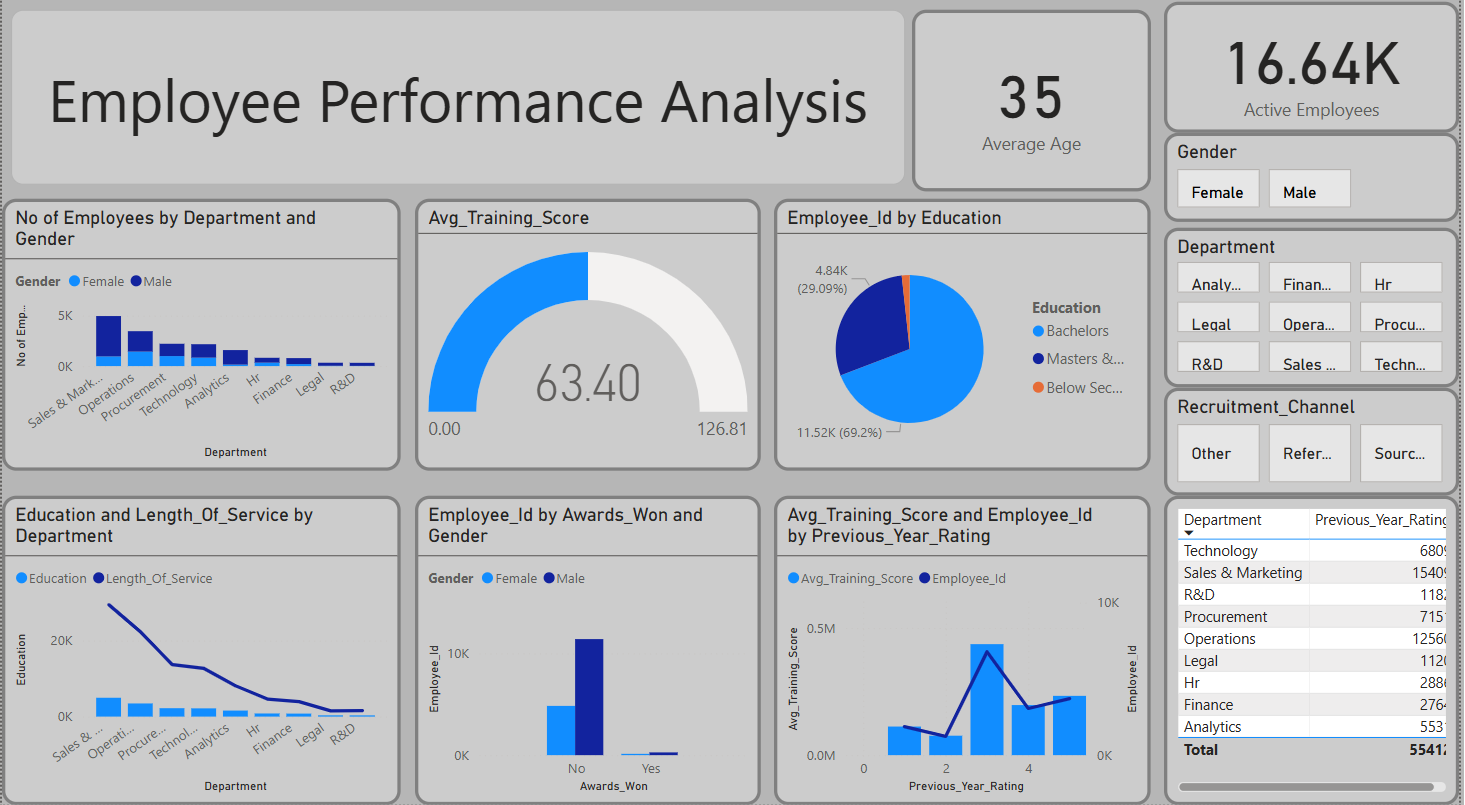

Layout of this report page (visuals, bound fields, positions):
{"tool":"powerbi","page":{"name":"Page 1","canvas":[1323,779],"ordinal":0},"visuals":[{"type":"textbox","box":[8.2,57.2,811.8,158.9],"z":0},{"type":"columnChart","fields":{"Series":["cleaned_employees Dataset.Gender"],"Category":["cleaned_employees Dataset.Department"],"Y":["CountNonNull(cleaned_employees Dataset.Employee_Id)"]},"box":[0,228.8,362.3,247],"z":1000},{"type":"lineStackedColumnComboChart","fields":{"Y2":["Sum(cleaned_employees Dataset.Length_Of_Service)"],"Category":["cleaned_employees Dataset.Department"],"Y":["CountNonNull(cleaned_employees Dataset.Education)"]},"box":[0,498.5,362.3,280.6],"z":2000},{"type":"gauge","fields":{"Y":["Avg(cleaned_employees Dataset.Avg_Training_Score)"]},"box":[375,228.8,314.2,247],"z":3000},{"type":"clusteredColumnChart","fields":{"Category":["cleaned_employees Dataset.Awards_Won"],"Series":["cleaned_employees Dataset.Gender"],"Y":["CountNonNull(cleaned_employees Dataset.Employee_Id)"]},"box":[375,498.5,314.2,280.6],"z":4000},{"type":"pieChart","fields":{"Category":["cleaned_employees Dataset.Education"],"Y":["CountNonNull(cleaned_employees Dataset.Employee_Id)"]},"box":[701,228.8,342.3,247],"z":5000},{"type":"advancedSlicerVisual","fields":{"Values":["cleaned_employees Dataset.Gender"]},"box":[1055.1,168.9,267.9,80.8],"z":6000},{"type":"lineClusteredColumnComboChart","fields":{"Category":["cleaned_employees Dataset.Previous_Year_Rating"],"Y":["Sum(cleaned_employees Dataset.Avg_Training_Score)"],"Y2":["CountNonNull(cleaned_employees Dataset.Employee_Id)"]},"box":[701,498.5,342.3,280.6],"z":7000},{"type":"advancedSlicerVisual","fields":{"Values":["cleaned_employees Dataset.Recruitment_Channel"]},"box":[1055.1,400.4,267.9,98.1],"z":8000},{"type":"advancedSlicerVisual","fields":{"Values":["cleaned_employees Dataset.Department"]},"box":[1055.1,255.2,267.9,145.3],"z":9000},{"type":"card","fields":{"Values":["cleaned_employees Dataset.Average Age"]},"box":[1055.1,49.9,267.9,119],"z":10000},{"type":"card","fields":{"Values":["cleaned_employees Dataset.Average Age"]},"box":[826.3,57.2,217,165.3],"z":11000},{"type":"tableEx","fields":{"Values":["cleaned_employees Dataset.Department","Sum(cleaned_employees Dataset.Previous_Year_Rating)"]},"box":[1055.1,498.5,267.9,280.6],"z":12000}]}

Visuals, with their boxes in screenshot pixels (x1, y1, x2, y2):
textbox: l=13, t=9, r=902, b=183
columnChart - cleaned_employees Dataset.Gender x cleaned_employees Dataset.Department: l=4, t=197, r=401, b=468
lineStackedColumnComboChart - Sum(cleaned_employees Dataset.Length_Of_Service) x cleaned_employees Dataset.Department: l=4, t=493, r=401, b=800
gauge - Avg(cleaned_employees Dataset.Avg_Training_Score): l=415, t=197, r=759, b=468
clusteredColumnChart - cleaned_employees Dataset.Awards_Won x cleaned_employees Dataset.Gender: l=415, t=493, r=759, b=800
pieChart - cleaned_employees Dataset.Education x CountNonNull(cleaned_employees Dataset.Employee_Id): l=772, t=197, r=1147, b=468
advancedSlicerVisual - cleaned_employees Dataset.Gender: l=1160, t=132, r=1453, b=220
lineClusteredColumnComboChart - cleaned_employees Dataset.Previous_Year_Rating x Sum(cleaned_employees Dataset.Avg_Training_Score): l=772, t=493, r=1147, b=800
advancedSlicerVisual - cleaned_employees Dataset.Recruitment_Channel: l=1160, t=385, r=1453, b=493
advancedSlicerVisual - cleaned_employees Dataset.Department: l=1160, t=226, r=1453, b=385
card - cleaned_employees Dataset.Average Age: l=1160, t=1, r=1453, b=132
card - cleaned_employees Dataset.Average Age: l=909, t=9, r=1147, b=190
tableEx - cleaned_employees Dataset.Department x Sum(cleaned_employees Dataset.Previous_Year_Rating): l=1160, t=493, r=1453, b=800
